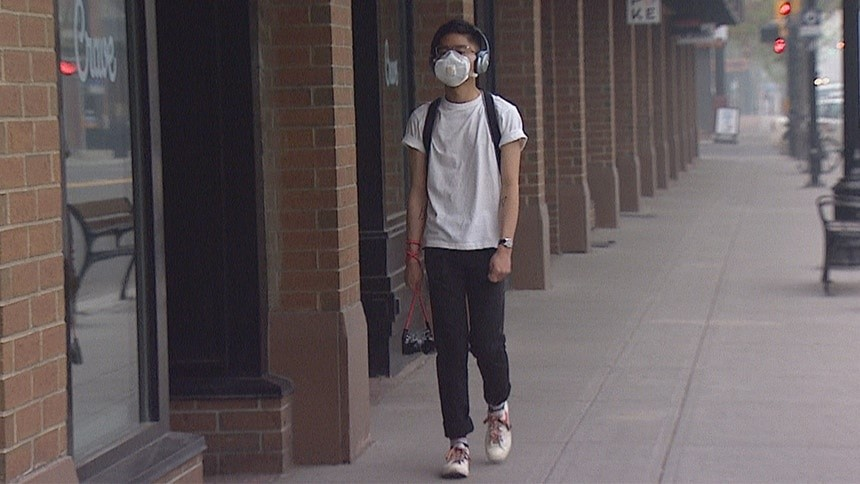face_with_mask: (420, 18, 493, 105)
